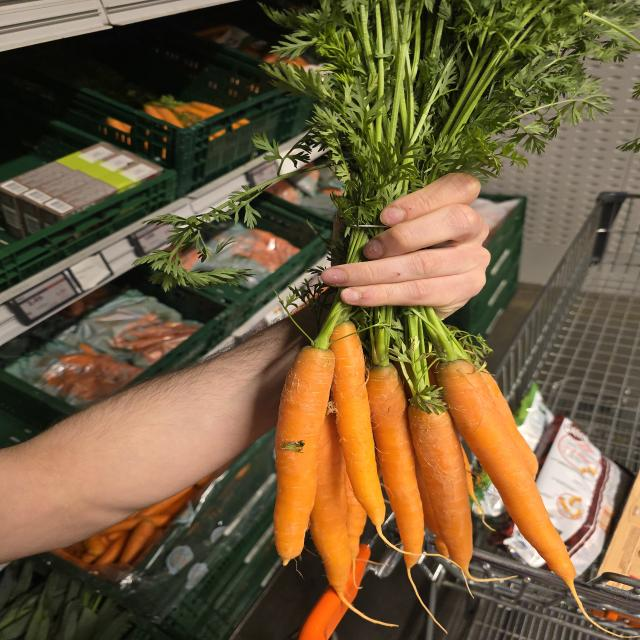Carrot: (437, 359, 575, 586), (274, 346, 335, 562), (367, 365, 424, 574), (330, 321, 384, 531), (408, 404, 472, 578), (310, 413, 367, 602)
